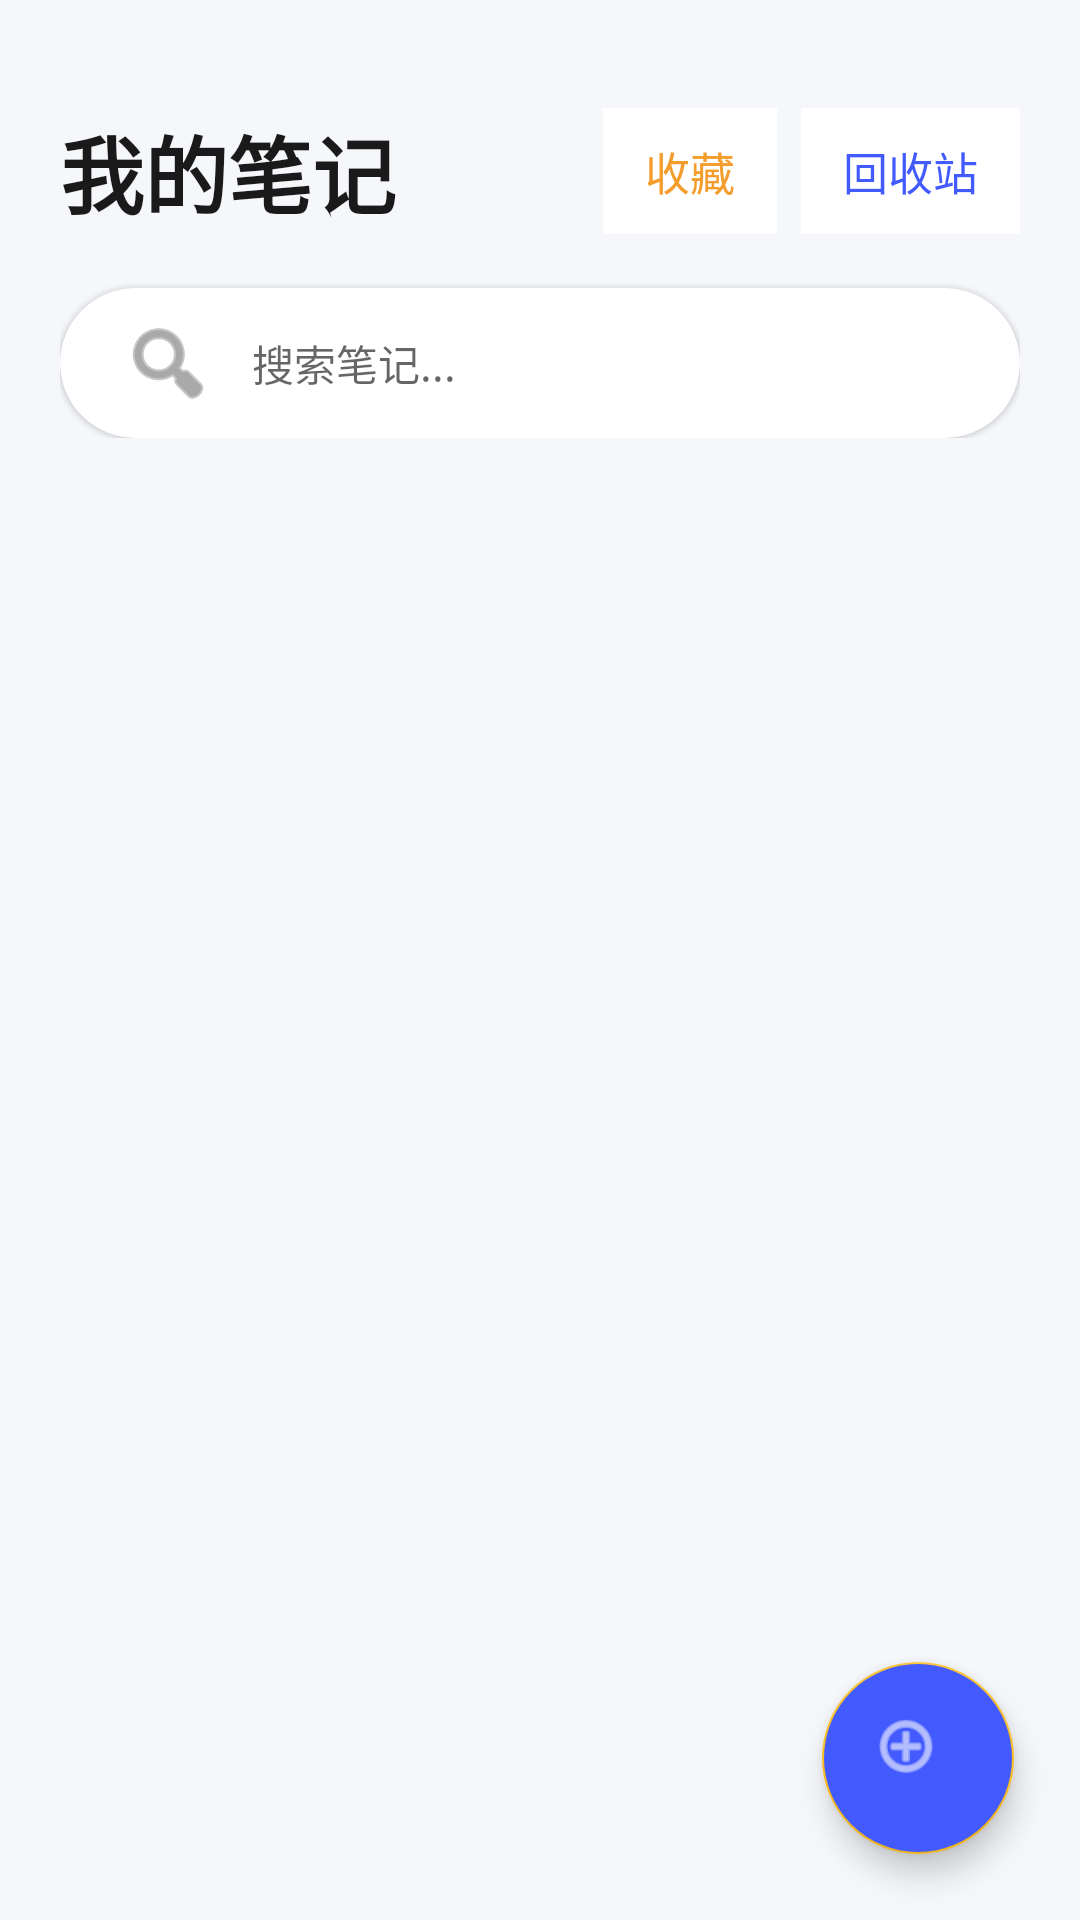

Named icons in this screenshot (1080px×1920px) and their centers, point (x, y):
add: point (918, 1758)
